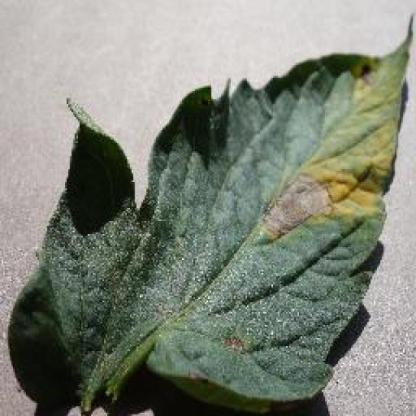Tomato_Blight: (11, 24, 414, 414)
